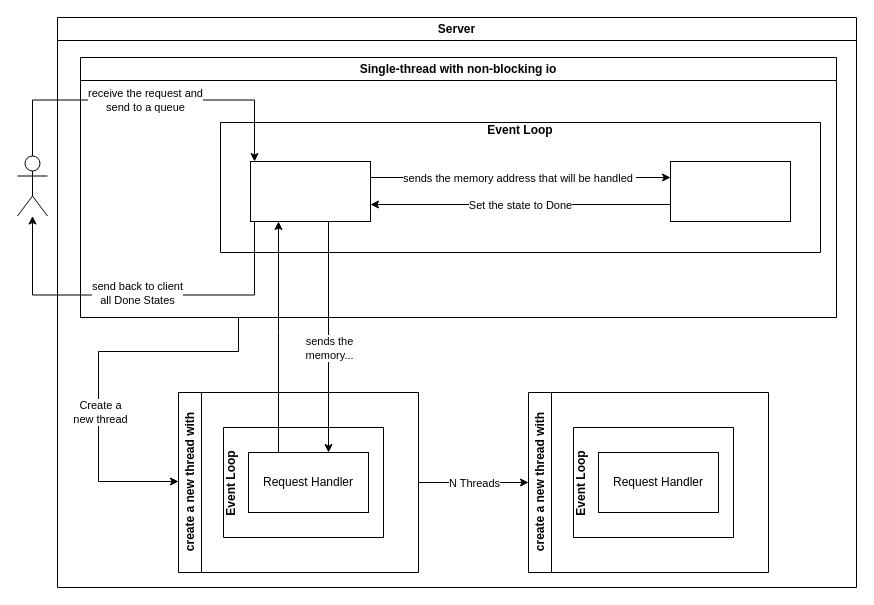
This 874x605 diagram has some shape labels left out. The centre of each missing label's shape, as x and y in pixels:
Connection Handler Module: the point at 310,191
Request Handler Module: the point at 730,191
